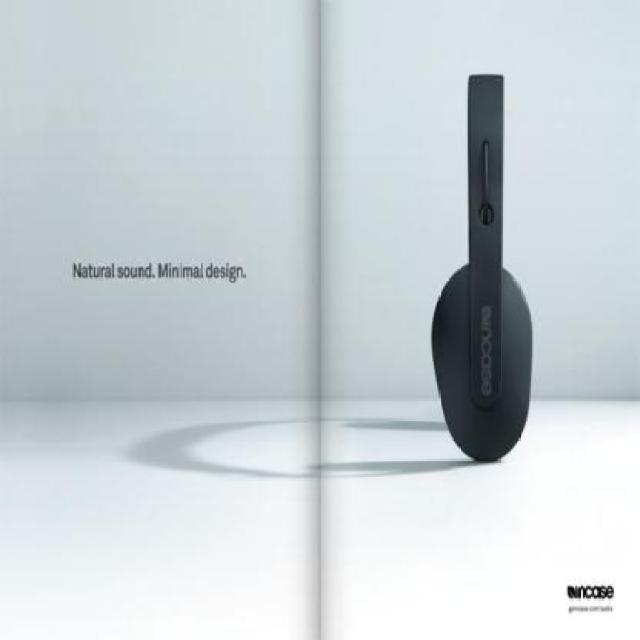earphone: (422, 32, 586, 498)
